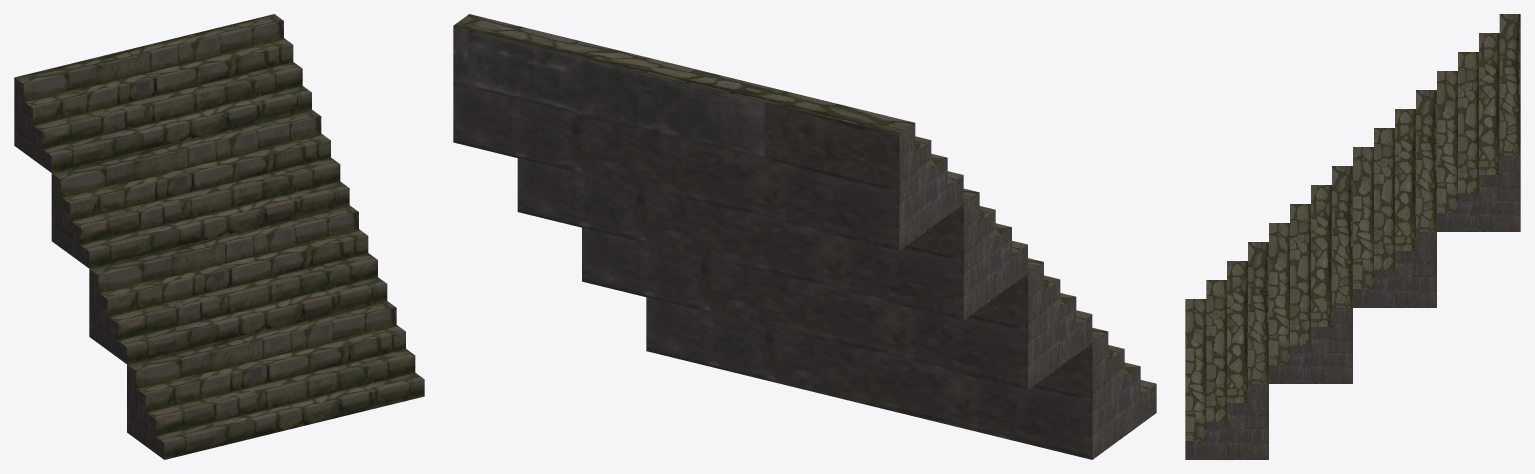
The model's file is stairs.gltf.
The picture shows the model from 3 angles, left to right: view 1: azimuth 30°, elevation 25°; view 2: azimuth 150°, elevation 25°; view 3: azimuth 270°, elevation 25°; orthographic projection. The views are drawn at different scales.
Visible parts, largest first — view 1: Cube.001; view 2: Cube.001; view 3: Cube.001.
Part boxes in pixels (x1,y1,x2,y2): Cube.001: [14, 14, 424, 459]; Cube.001: [453, 14, 1156, 459]; Cube.001: [1185, 14, 1520, 459].
Size of the model in its own units: 1 by 1 by 1.
1 material, 1 textured.
